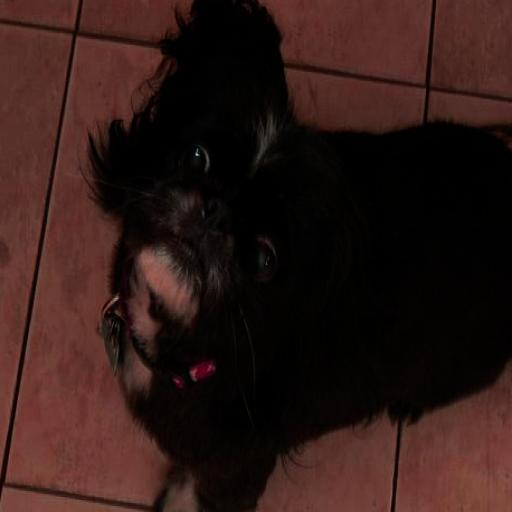dog_face: (84, 7, 352, 343)
